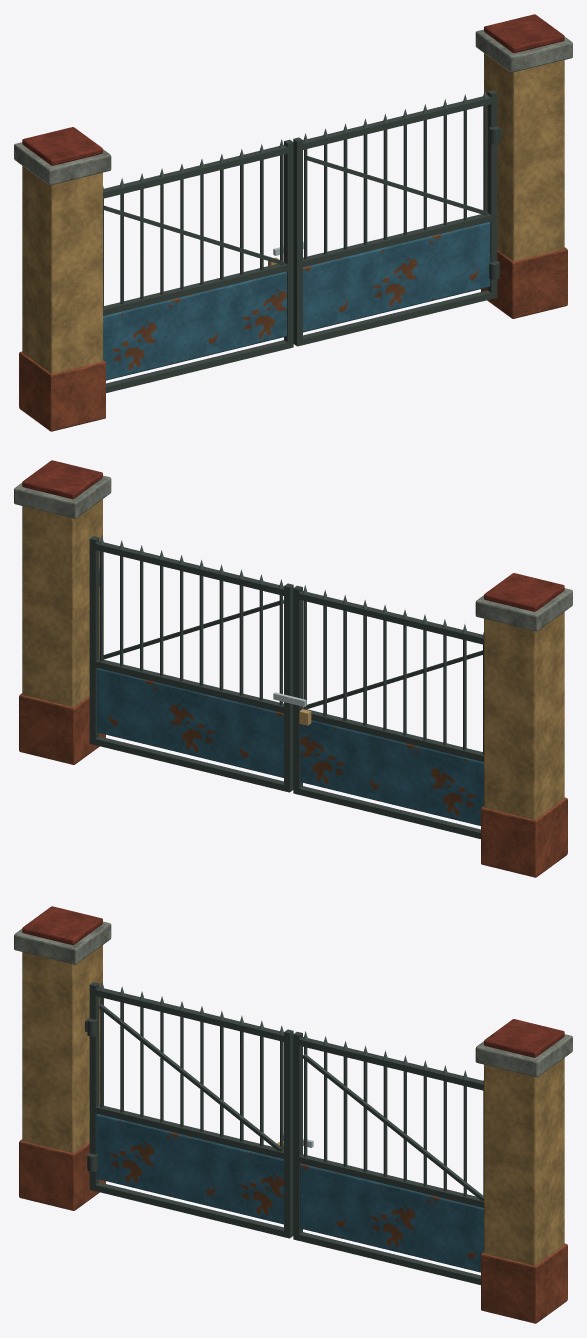
File: BLD_Gate_Double_01.gltf
3 renders of one model, top to bottom at view 1: azimuth 30°, elevation 25°; view 2: azimuth 150°, elevation 25°; view 3: azimuth 330°, elevation 25°, orthographic.
Parts seen in each view (by area): view 1: TF3_BLD_Gate_Double_01; view 2: TF3_BLD_Gate_Double_01; view 3: TF3_BLD_Gate_Double_01.
Part boxes in pixels (x1,y1,x2,y2): TF3_BLD_Gate_Double_01: [14, 14, 572, 431]; TF3_BLD_Gate_Double_01: [14, 460, 572, 877]; TF3_BLD_Gate_Double_01: [14, 906, 572, 1323].
Size of the model in its own units: 4.02 by 1.98 by 0.48.
8 materials, 5 textured.
